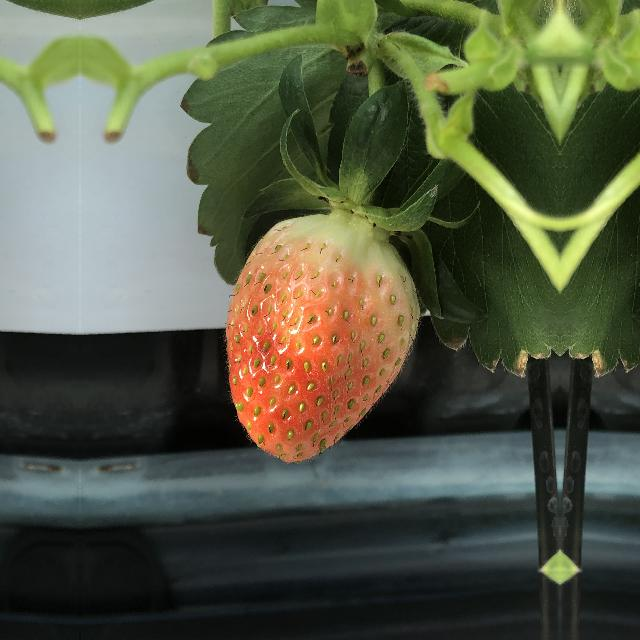Health_100: (229, 200, 425, 464)
